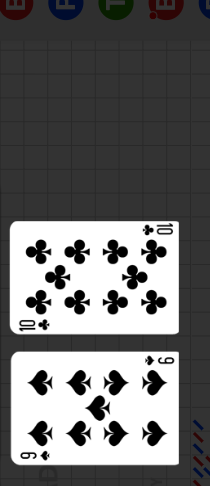10C: (140, 223, 175, 238)
9S: (143, 354, 176, 367)
